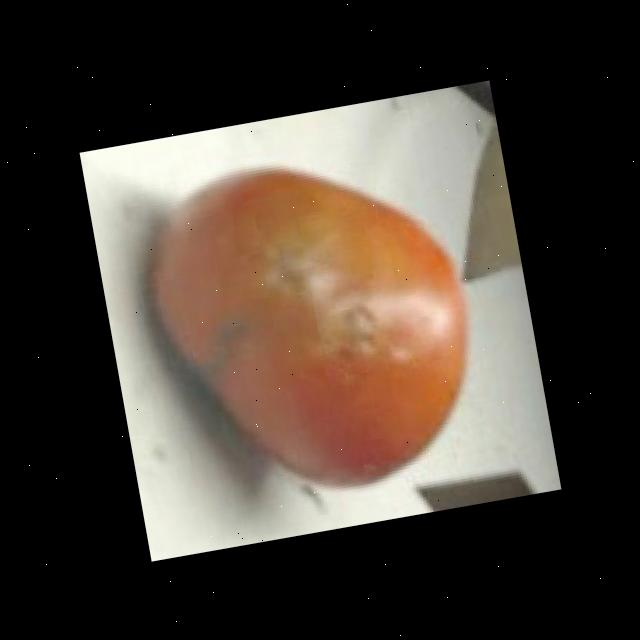tomato: (140, 131, 482, 467)
